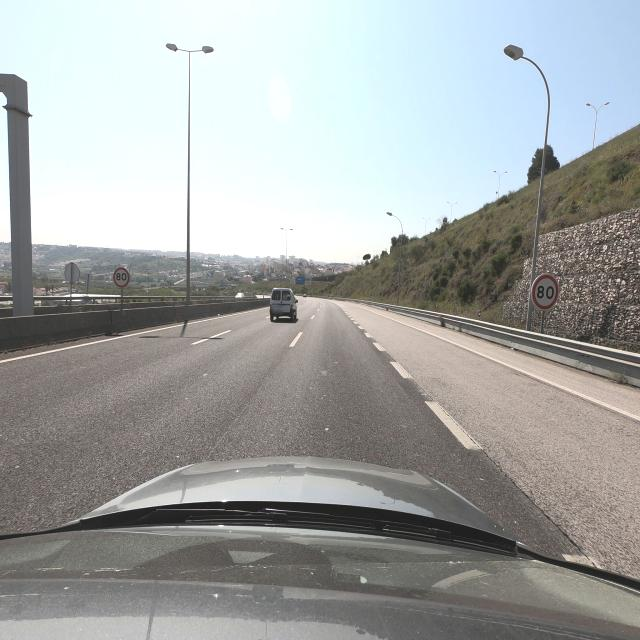car: (269, 287, 298, 323)
